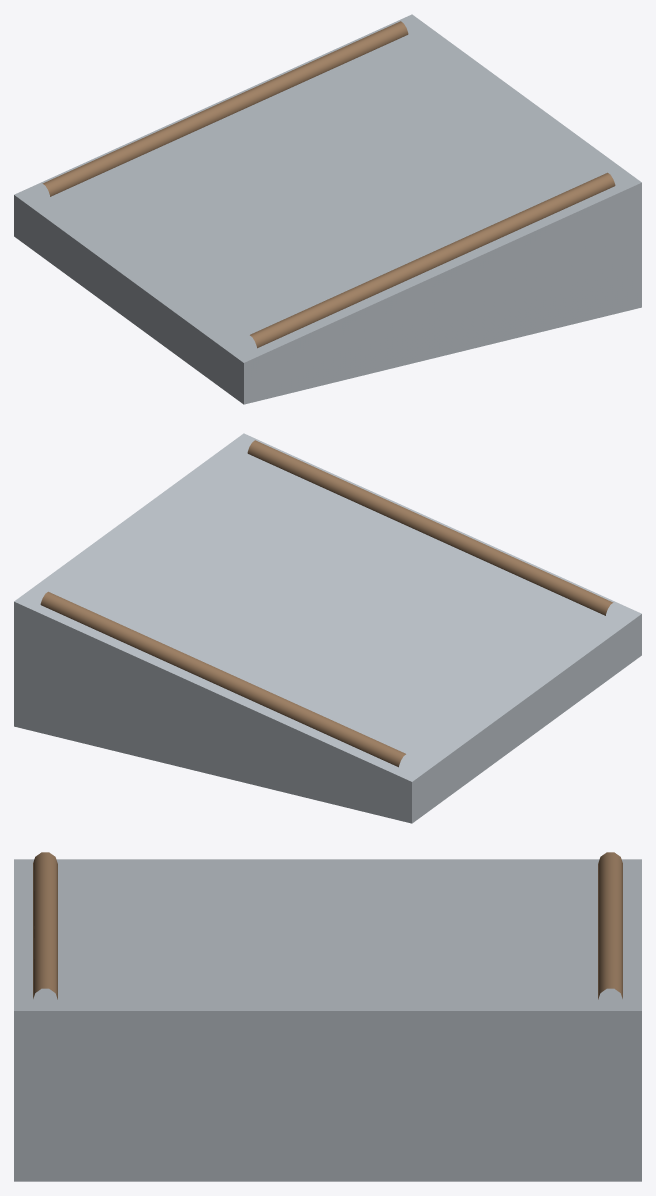
File: arena-shooter-map-kit-ramp-floor-e40cc63c__23083.glb
3 renders of one model, top to bottom at view 1: azimuth 30°, elevation 25°; view 2: azimuth 150°, elevation 25°; view 3: azimuth 270°, elevation 25°, orthographic. The views are drawn at different scales.
Parts seen in each view (by area): view 1: ramp-floor; view 2: ramp-floor; view 3: ramp-floor.
Boxes of the visible parts, x1,y1,x2,y2 form: ramp-floor: (14, 14, 641, 404); ramp-floor: (14, 433, 641, 823); ramp-floor: (14, 852, 641, 1181).
Size of the model in its own units: 2 by 0.6273 by 2.
